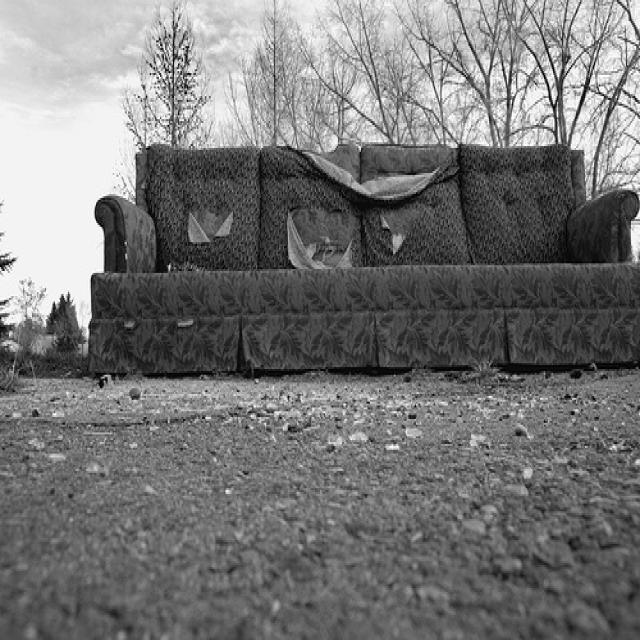sofa: (87, 142, 639, 375)
